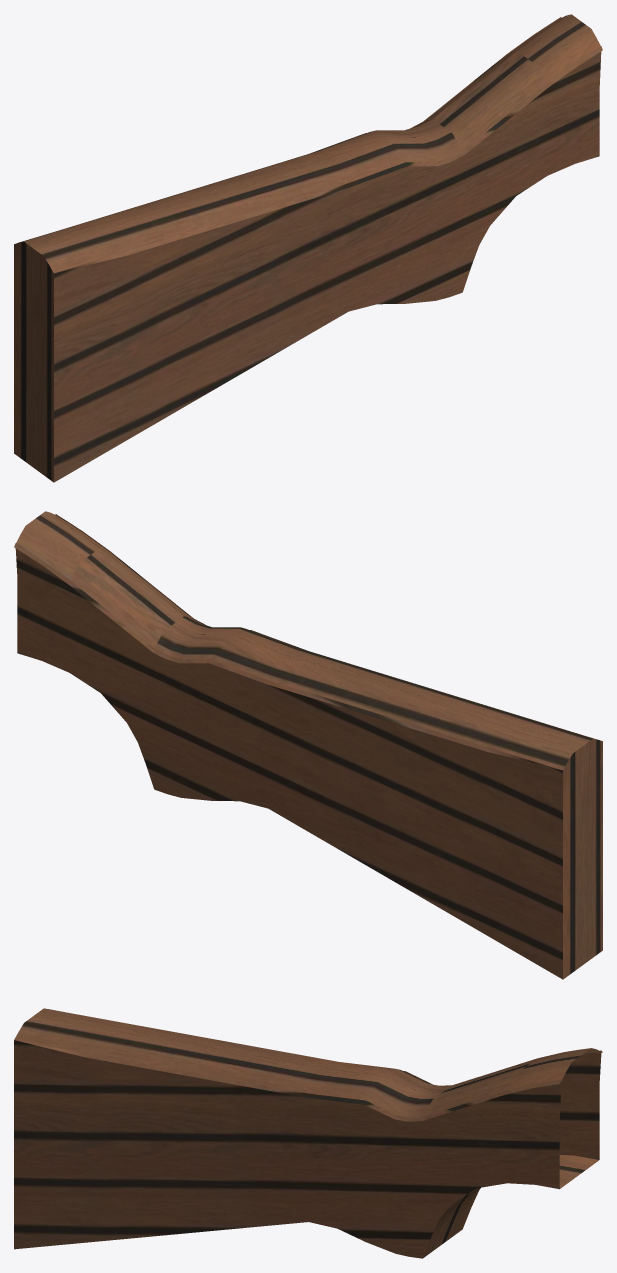
The model's file is Kabza_V2.glb.
3 views of the same model, one above another, from view 1: azimuth 30°, elevation 25°; view 2: azimuth 150°, elevation 25°; view 3: azimuth 330°, elevation 25° (orthographic).
Visible parts, largest first — view 1: Kabza_V2; view 2: Kabza_V2; view 3: Kabza_V2.
Part boxes in pixels (left/top/right/bottom): Kabza_V2: left=14, top=14, right=602, bottom=482; Kabza_V2: left=14, top=511, right=602, bottom=979; Kabza_V2: left=14, top=1008, right=602, bottom=1258.
Size of the model in its own units: 1.5 by 0.8206 by 0.2051.
Materials: 1 (1 with a texture image).
